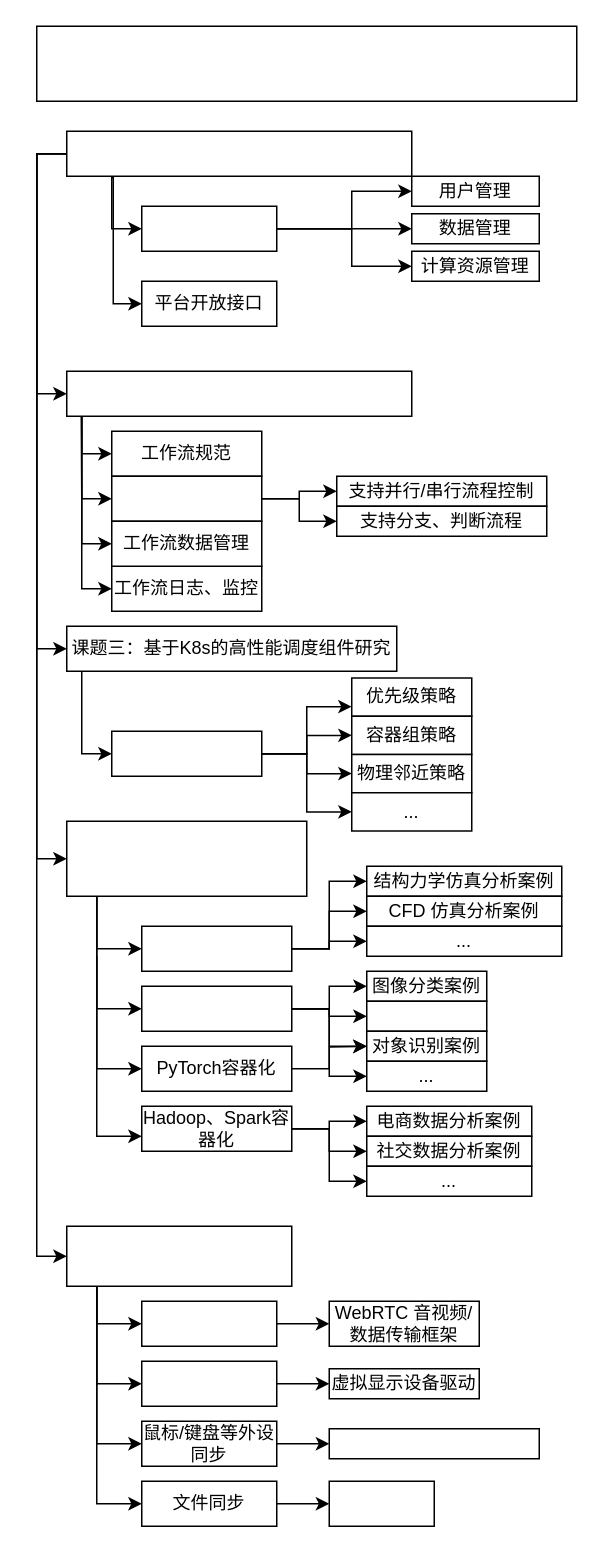
Image size: 603x1553. Some labels were removed from this diagram. The centre of each missing label's shape, as x and y in pixels:
FUSE 用户态文件系统: [381,1503]
MPI、OpenMP容器化: [216,948]
TensorFlow容器化: [216,1008]
工作流引擎: [186,498]
画面同步分辨率控制等: [208,1383]
系统架构设计: [208,228]
网络传输: [208,1323]
虚拟HID 设备等驱动: [433,1443]
语音识别案例: [426,1015]
课题一：统一的资源管理平台研究: [238,153]
课题二：云原生自动化工作流方法研究: [238,393]
课题五：云原生远程桌面/应用研究: [178,1255]
课题四：容器化工作负载模板以及使用案例库: [186,858]
调度控制器: [186,753]
面向算力网络的统一计算平台: [306,63]
